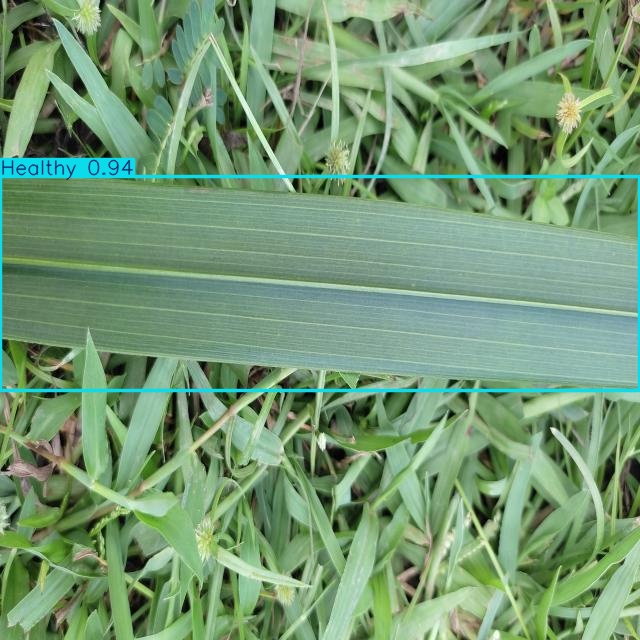Healthy: (0, 177, 639, 390)
